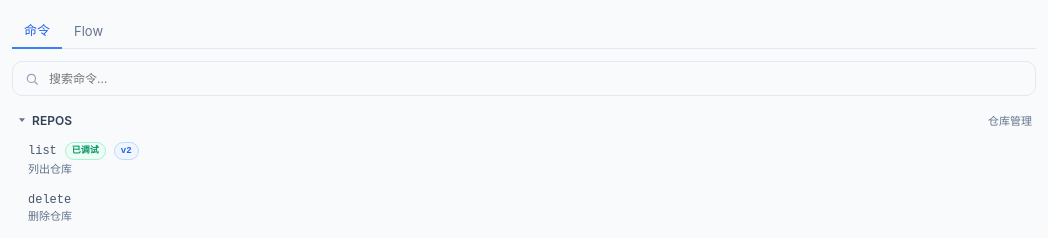
Test: CommandTree › 搜索框按当前 tab 过滤内容
// 命令 tab：按名称过滤
Type "list" into the field with placeholder "搜索命令…" at (535, 78), box [47,70,1023,87]
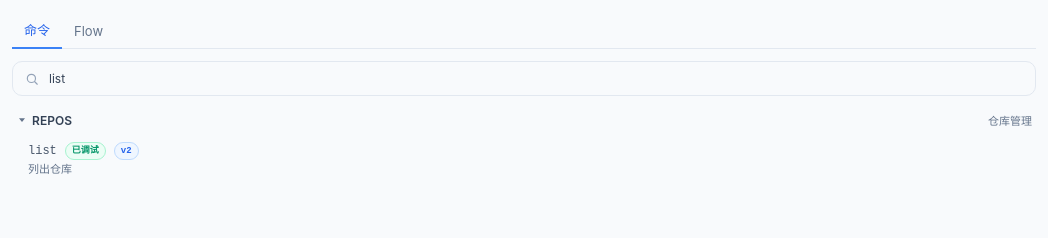
expect the text "list" is shown: met, box [28,144,57,158]
expect the button "delete" is gone: met
// 清空搜索，切 Flow tab：按 command 过滤
Clear the field with placeholder "搜索命令…" at (535, 78), box [47,70,1023,87]
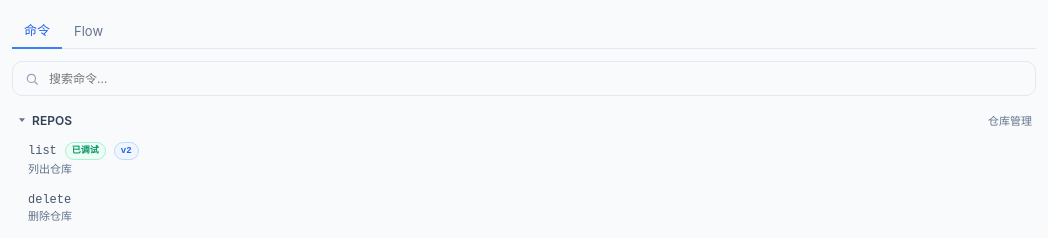
Click the button with test id "side-tab" showing "Flow" at (88, 32), box [62,15,115,49]
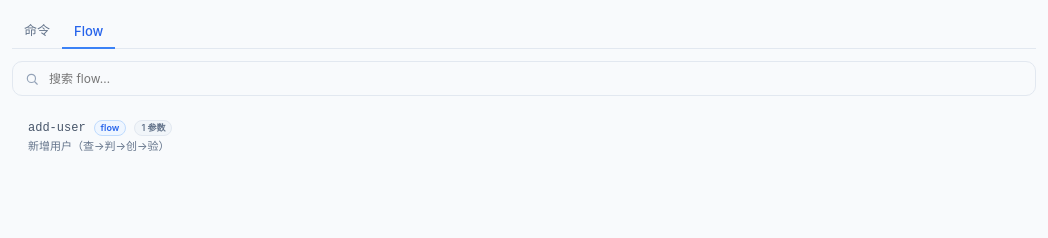
Type "add-user" into the field with placeholder "搜索 flow…" at (535, 78), box [47,70,1023,87]
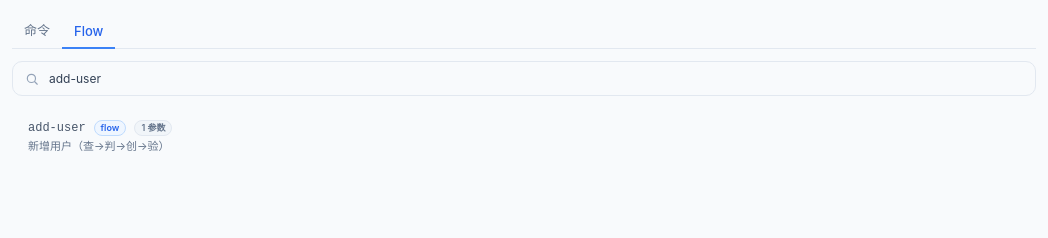
expect the text "add-user" is shown: met, box [28,121,86,135]
// 无匹配 → 空态
Replace the text in the field with placeholder "搜索 flow…" with "zzz" at (535, 78), box [47,70,1023,87]
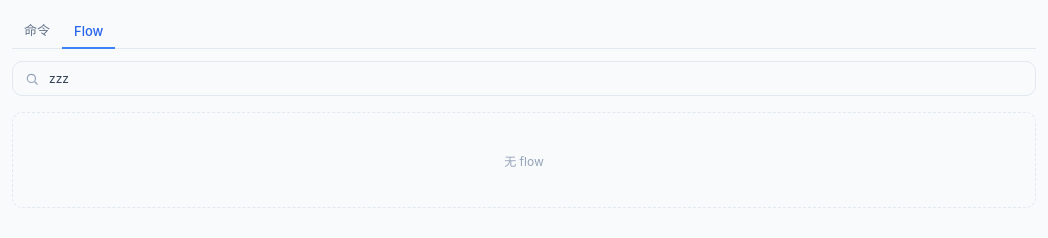
expect the text "无 flow" is shown: met, box [12,112,1036,208]
